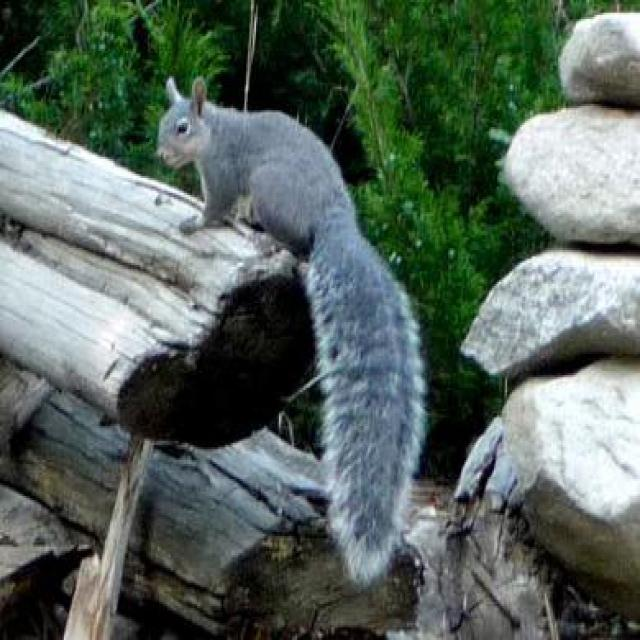Squirrel: (155, 74, 426, 575)
